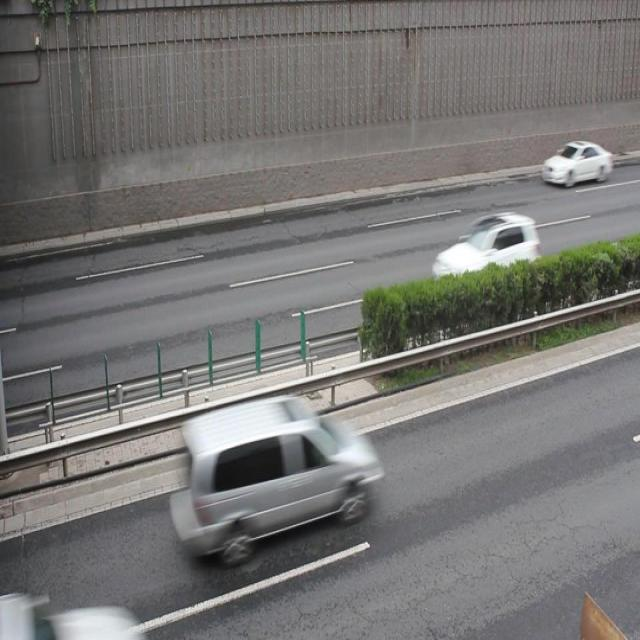car: (429, 210, 540, 307), (1, 589, 142, 640), (541, 136, 612, 190)
truck: (171, 397, 378, 551)
